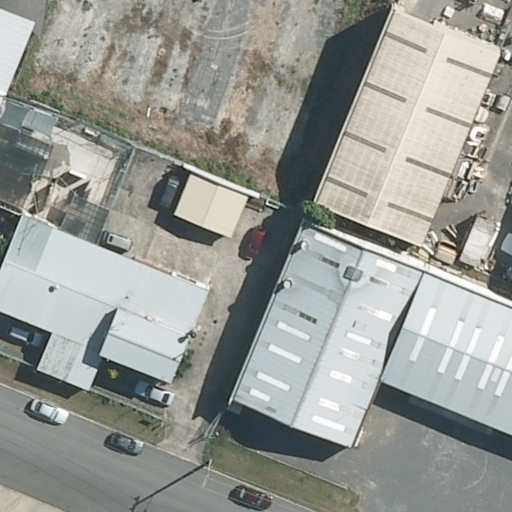DT: (195, 456, 213, 488)
